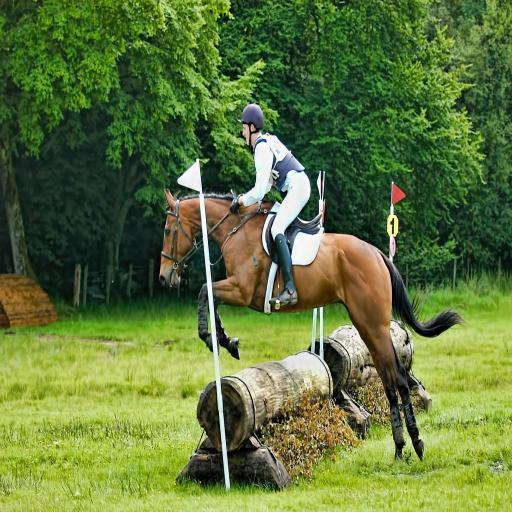horse: (158, 188, 467, 458)
